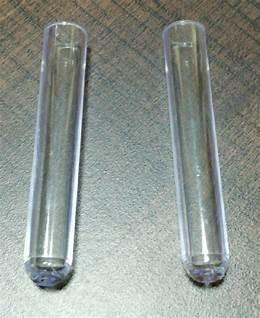Test tube: (139, 12, 238, 291), (31, 20, 86, 310)
